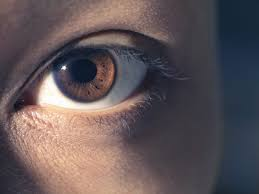pupil: (53, 49, 116, 101)
